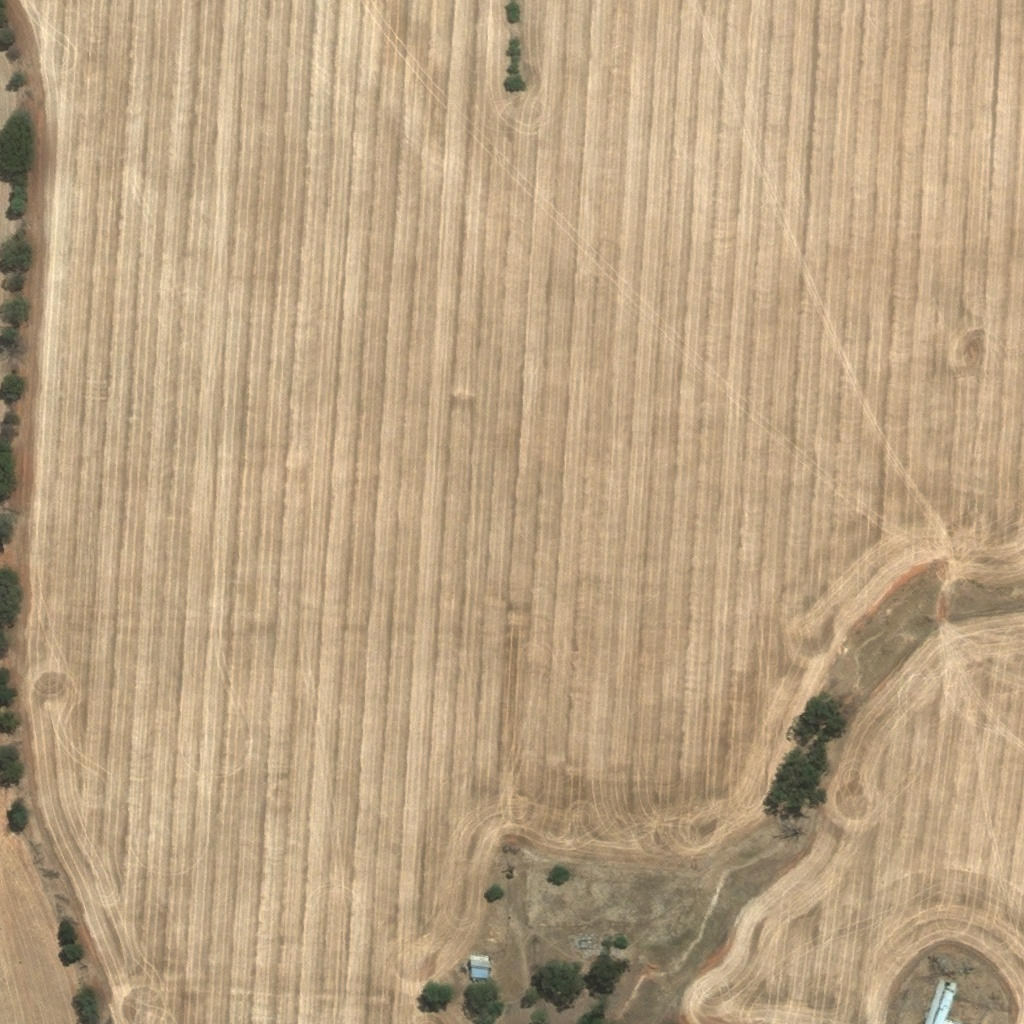0 no-damage: (924, 976, 958, 1023), (470, 953, 491, 968), (469, 966, 488, 979)
